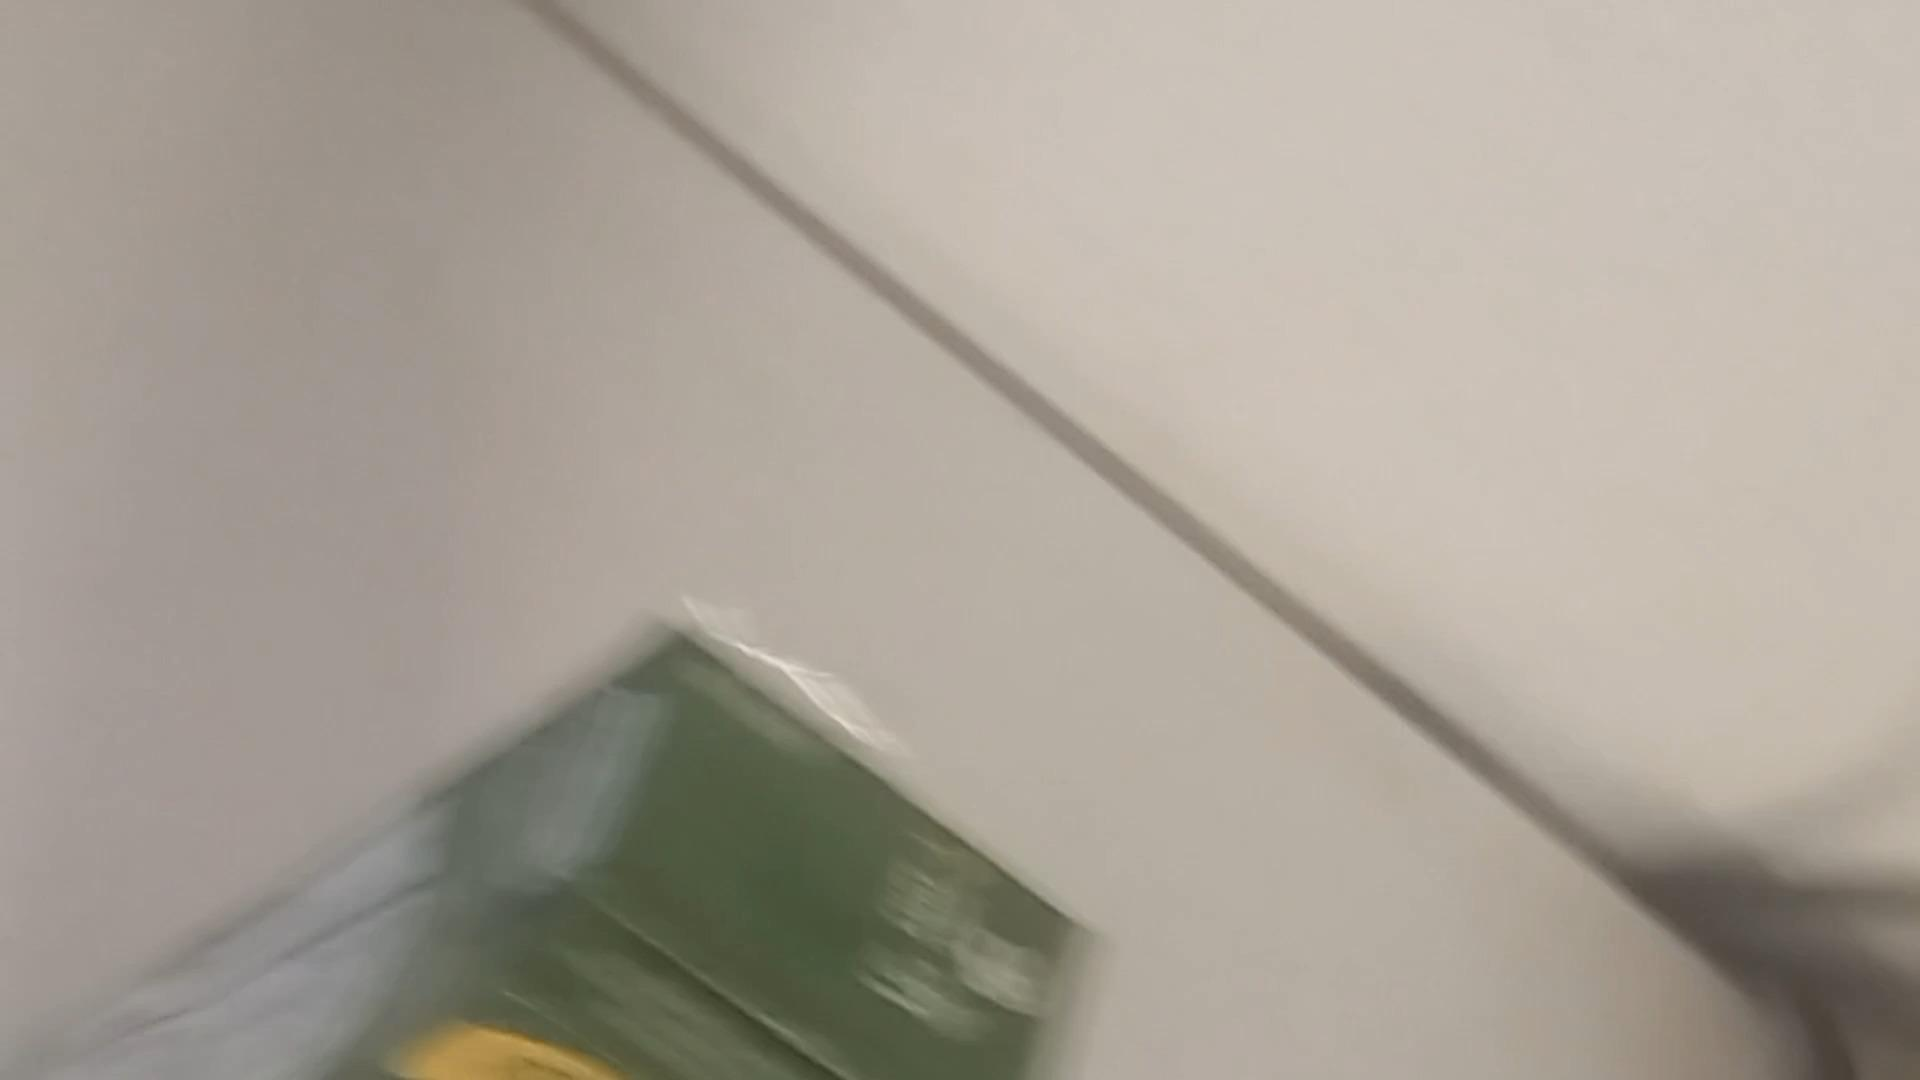coco: (0, 628, 1112, 1080)
